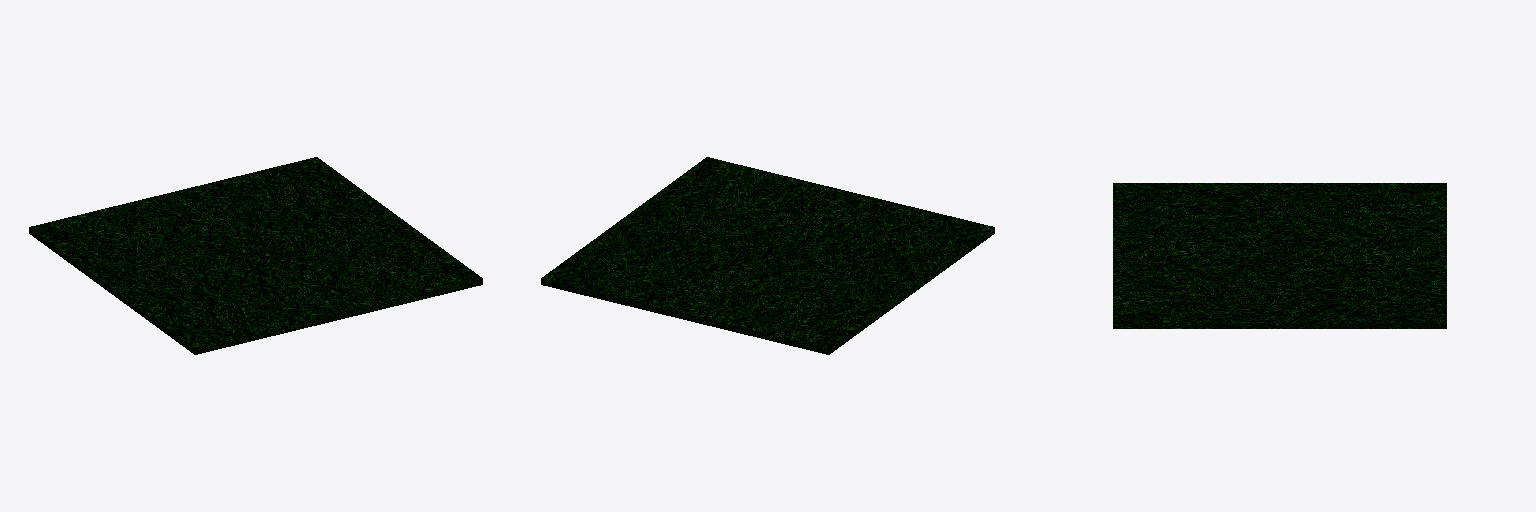
The picture shows the model from 3 angles: view 1: azimuth 30°, elevation 25°; view 2: azimuth 150°, elevation 25°; view 3: azimuth 270°, elevation 25°; orthographic projection.
Visible parts, largest first — view 1: Object.1; view 2: Object.1; view 3: Object.1.
Part boxes in pixels (x1,y1,x2,y2): Object.1: (29,157,482,354); Object.1: (541,157,994,354); Object.1: (1113,183,1446,328).
Bounding box in the file's own units: 100 × 2 × 100.
Materials: 1 (1 with a texture image).